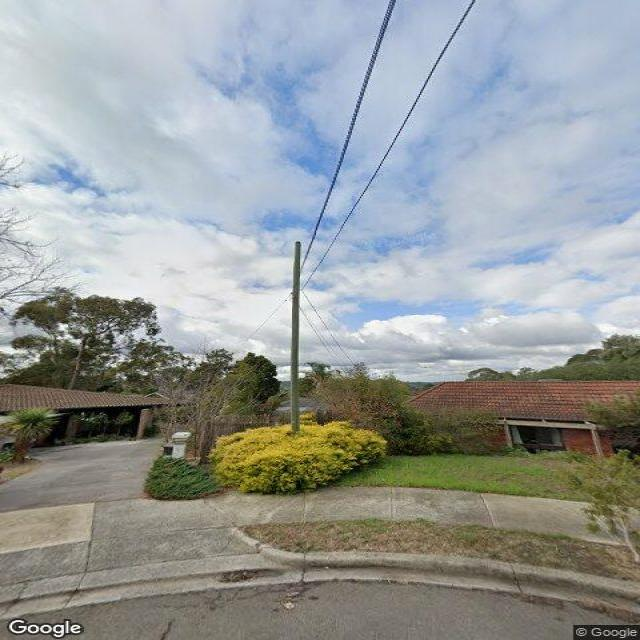timber-pole: (290, 240, 302, 433)
